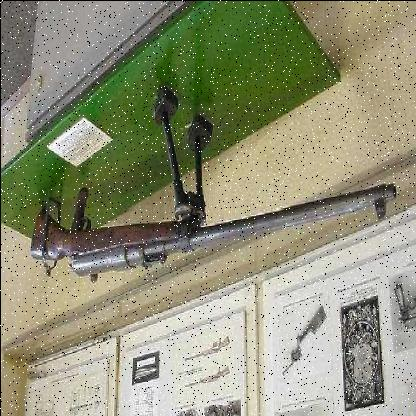rifle: (22, 132, 403, 330)
